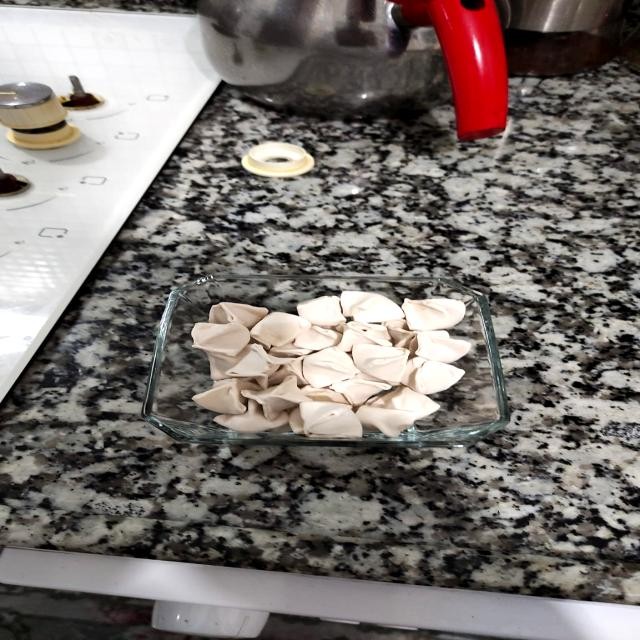turkish dumplings: (174, 288, 499, 442)
